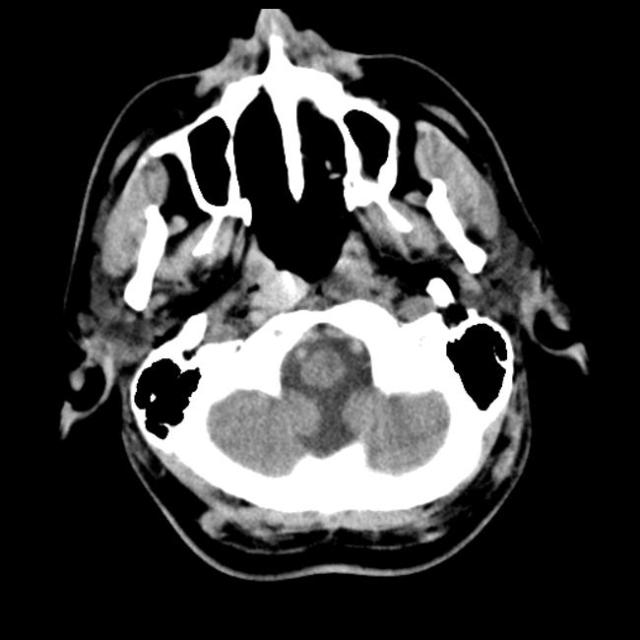lesion: (54, 10, 591, 583)
